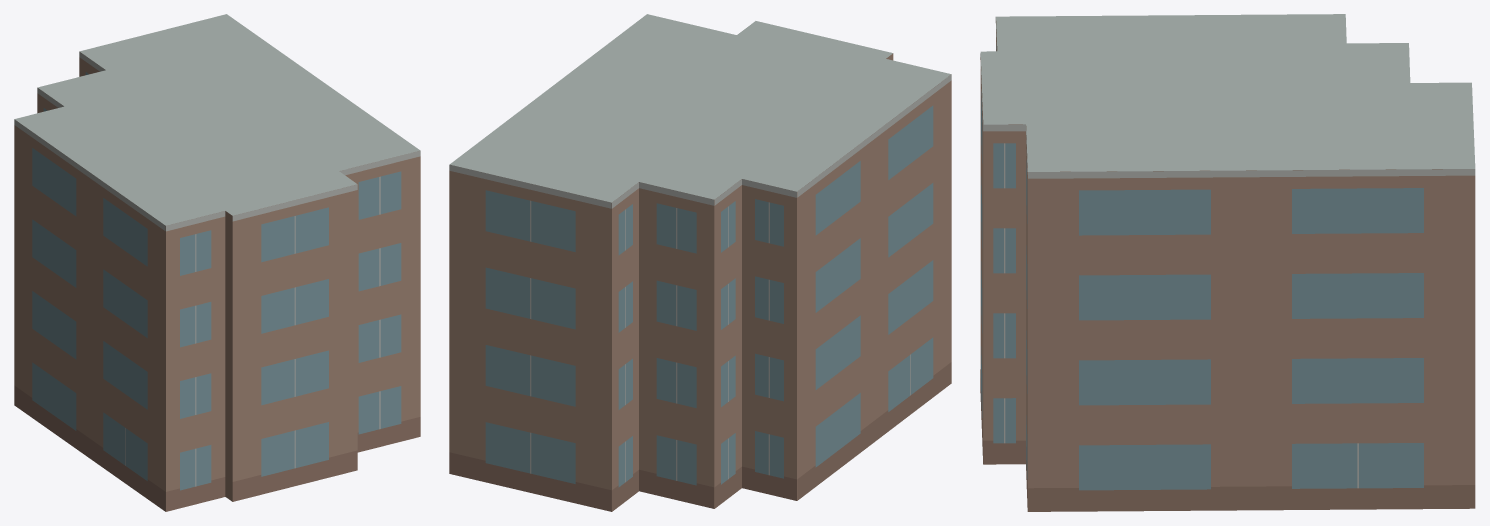
The model's file is residential-8b522a57-2e5b-47f3-8baf-137039d21f39.glb.
The picture shows the model from 3 angles, left to right: view 1: azimuth 30°, elevation 25°; view 2: azimuth 150°, elevation 25°; view 3: azimuth 270°, elevation 25°; orthographic projection. The views are drawn at different scales.
Visible parts, largest first — view 1: residential-8b522a57-2e5b-47f3-8baf-137039d21f39.tmp; view 2: residential-8b522a57-2e5b-47f3-8baf-137039d21f39.tmp; view 3: residential-8b522a57-2e5b-47f3-8baf-137039d21f39.tmp.
Boxes of the visible parts, bbox=[...] form: residential-8b522a57-2e5b-47f3-8baf-137039d21f39.tmp: bbox=[14, 14, 420, 511]; residential-8b522a57-2e5b-47f3-8baf-137039d21f39.tmp: bbox=[449, 14, 951, 511]; residential-8b522a57-2e5b-47f3-8baf-137039d21f39.tmp: bbox=[980, 14, 1475, 511].
Size of the model in its own units: 12.17 by 12.2 by 16.11.
